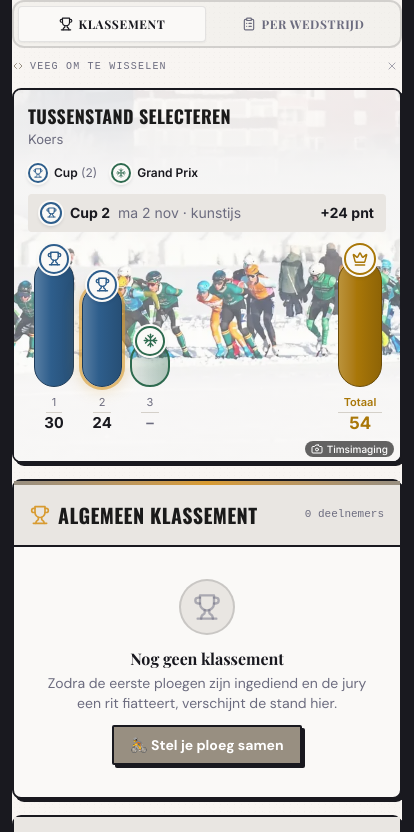
Test: ResultsView › Klassement › Meermarathon: de schaatsbalk kiest de tussenstand, zonder ritten of kilometers
Click the button named "Amsterdam,". click: coordinates (54, 336)
box: 34,240 -> 74,432
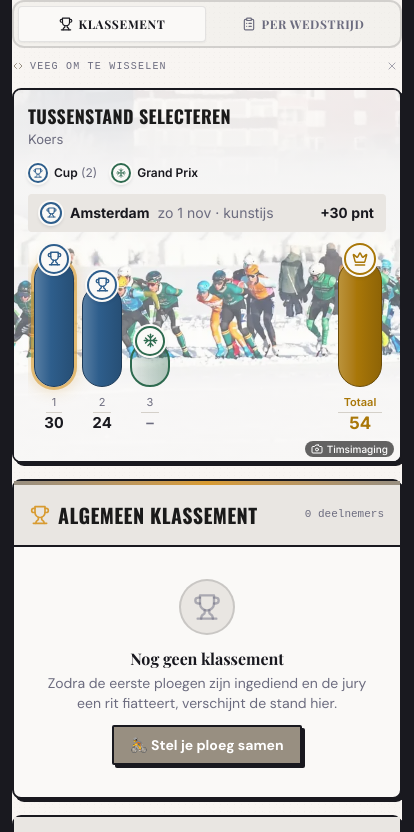
Now the message "Amsterdam zo 1 nov · kunstijs +30 pnt" is shown, box 28,194 -> 386,232
Click the button named "Grand Prix 3,". click: coordinates (150, 336)
box: 130,240 -> 170,432
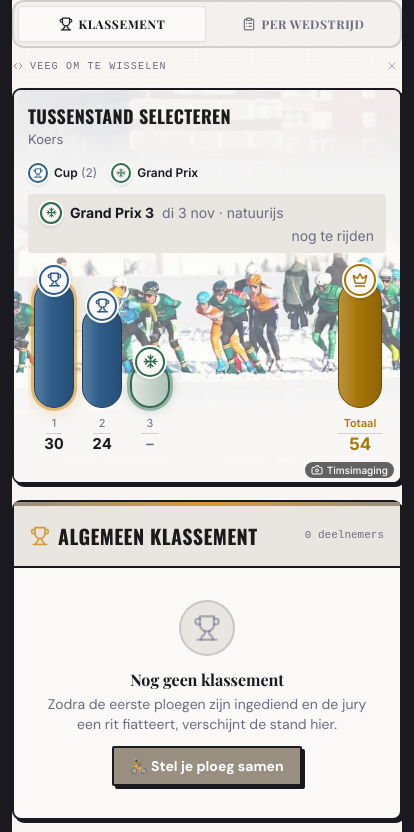
Now the message "Grand Prix 3 di 3 nov · natuurijs nog te rijden" is shown, box 28,194 -> 386,253
